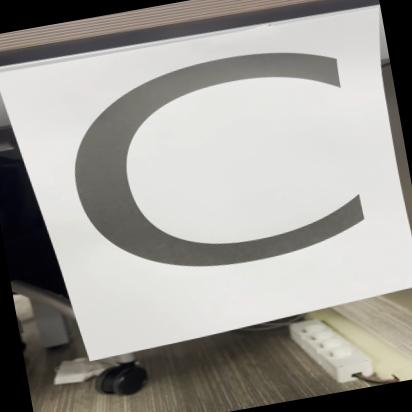seat: (4, 0, 412, 356)
